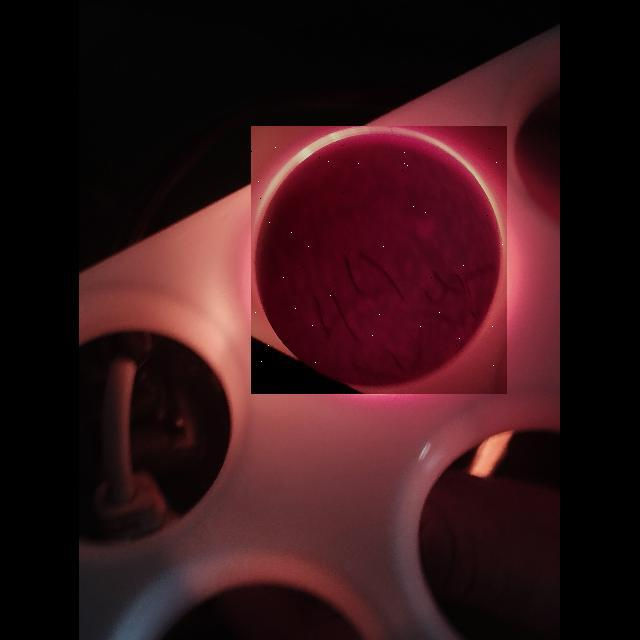Infertile: (251, 126, 507, 394)
